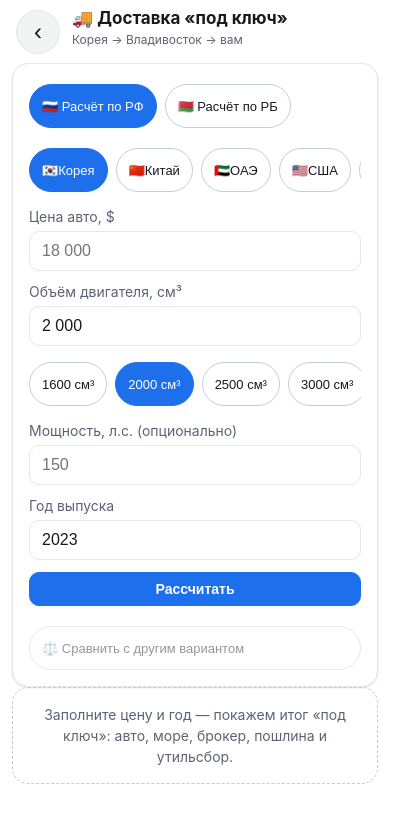
Test: Calc: страна отправки (GEO-V1 §2–§3) › сегмент страны: выбор ОАЭ шлёт country=AE в расчёт
Click the button "🇦🇪 ОАЭ": (236,170) [201,148,271,192]
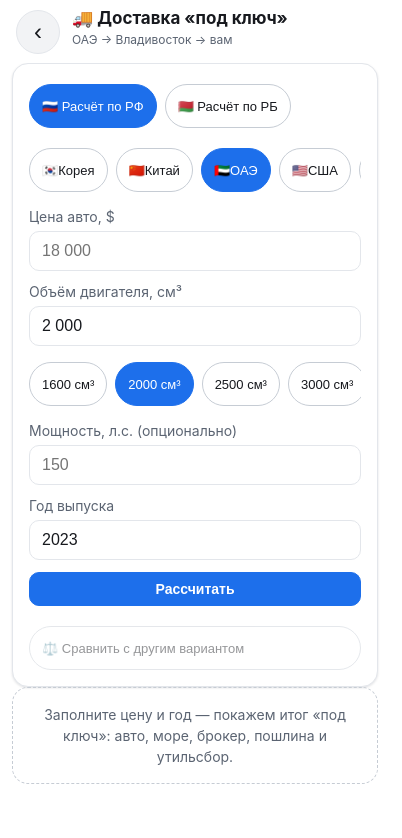
In the field with placeholder "18 000": (195,251) [29,231,361,271], type "18000"
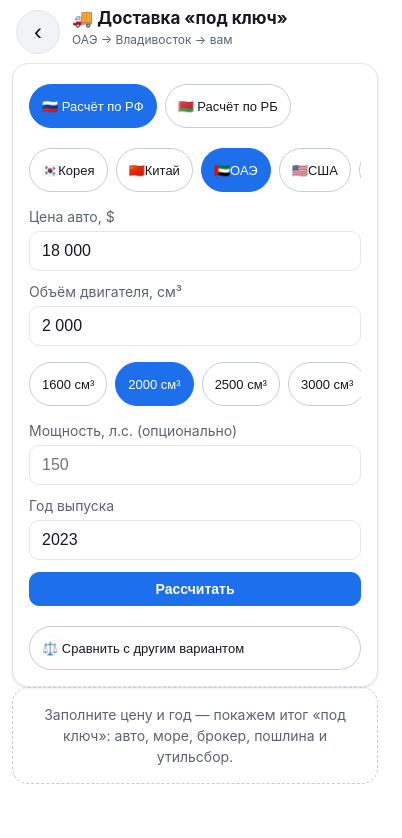
Click the button "Рассчитать": (195,589) [29,572,361,606]
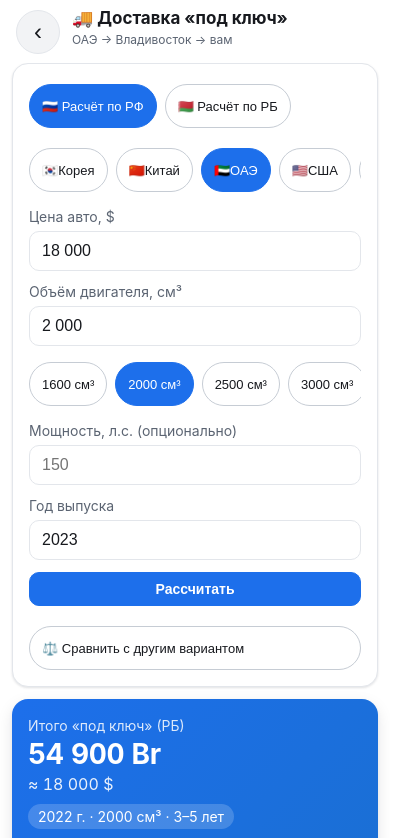
Expected: the text "Итого «под ключ» (РБ)" is shown, [28,717,185,734]
